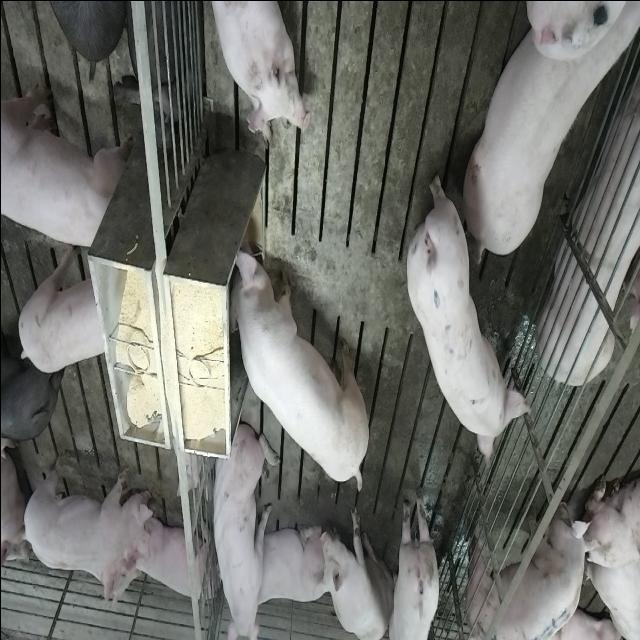Feeding: (220, 238, 366, 492)
Sitting: (207, 415, 271, 636), (319, 504, 392, 640)
Standing: (404, 168, 532, 460), (1, 74, 126, 253), (462, 503, 590, 640), (20, 460, 154, 568), (15, 240, 106, 373), (388, 481, 442, 639), (0, 318, 55, 450)
Sternal_lying: (539, 62, 640, 384), (204, 0, 306, 139), (132, 507, 212, 607), (246, 519, 327, 605), (80, 535, 140, 611)
